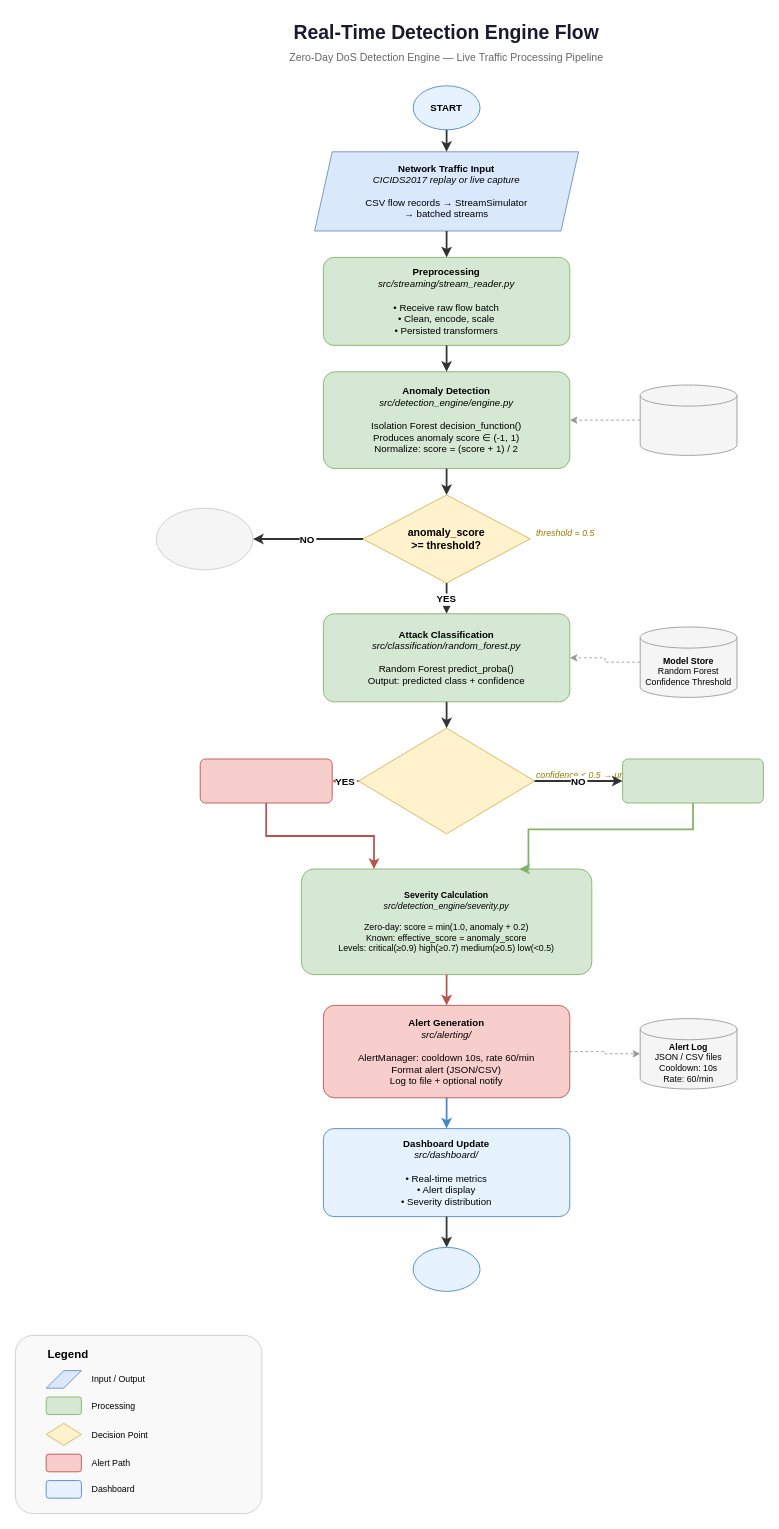
The diagram is 779 pixels wide and 1529 high, and some of its shapes have lost their labels. The centre of each missing label's shape, as x and y in pixels:
"BENIGN No alert generated" belongs at point 204,538.
"Class == BENIGN OR confidence < threshold?" belongs at point 446,780.
"END" belongs at point 446,1269.
"Known Attack Classified attack type" belongs at point 692,780.
"Model Store Isolation Forest Threshold: 0.5" belongs at point 688,419.
"ZERO-DAY Unknown attack flagged" belongs at point 265,780.
